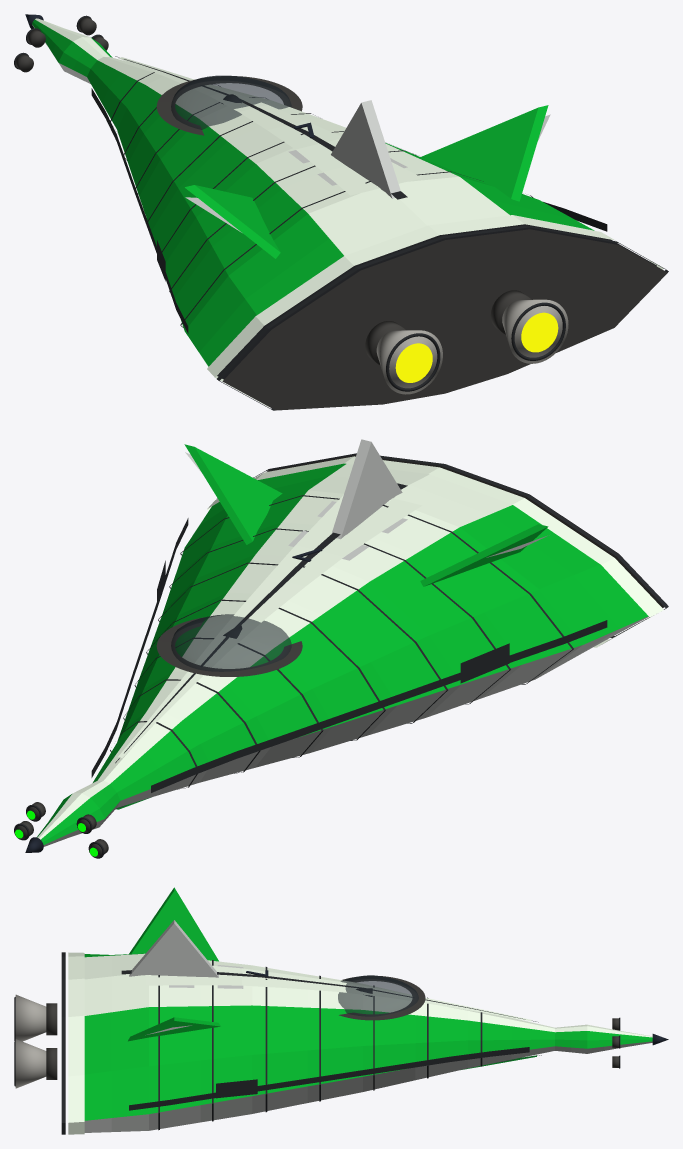
Rendered from Ship_PyramidLifter_390936.glb.
The picture shows the model from 3 angles, top to bottom: view 1: azimuth 30°, elevation 25°; view 2: azimuth 150°, elevation 25°; view 3: azimuth 270°, elevation 25°; orthographic projection. The views are drawn at different scales.
Parts seen in each view (by area): view 1: Fuselage_MainPyramidalLiftingBody, EngineDeck_AftFacetedDarkMountPlate, TailFin_Right_ShortCantedStabilizer, EngineDeck_AftOuterArmorCollar, PaintDorsalSplit_PrimaryCentralArmor, CanopyGlass_LowInsetSmokedDome, TailFin_Left_ShortCantedStabilizer, EngineEmitter, Nose_FacetedRamNeedle, CanopyFrame_LowInsetArmoredOvalRim, EngineBell_LeftWide_BurnishedNozzle, EngineBell_RightWide_BurnishedNozzle (+9 smaller); view 2: Fuselage_MainPyramidalLiftingBody, PaintDorsalSplit_PrimaryCentralArmor, CanopyGlass_LowInsetSmokedDome, EngineDeck_AftOuterArmorCollar, TailFin_Right_ShortCantedStabilizer, SideChinePanel_Left_LongDarkArmorJoint, Nose_FacetedRamNeedle, CanopyFrame_LowInsetArmoredOvalRim, TailFin_Center_TrimInsetPatch_B, TailFin_Center_LowDorsalKeel, TailFin_Left_ShortCantedStabilizer, EngineDeck_AftDarkCompressionSeal (+7 smaller); view 3: Fuselage_MainPyramidalLiftingBody, PaintDorsalSplit_PrimaryCentralArmor, EngineDeck_AftOuterArmorCollar, CanopyGlass_LowInsetSmokedDome, SideChinePanel_Right_LongDarkArmorJoint, TailFin_Left_ShortCantedStabilizer, Nose_FacetedRamNeedle, TailFin_Center_TrimInsetPatch_A, EngineBell_RightWide_BurnishedNozzle, EngineBell_LeftWide_BurnishedNozzle, CanopyFrame_LowInsetArmoredOvalRim, TailFin_Center_LowDorsalKeel (+6 smaller).
Part boxes in pixels (x1,y1,x2,y2): Fuselage_MainPyramidalLiftingBody: (87,57,656,379); EngineDeck_AftFacetedDarkMountPlate: (222,229,667,410); TailFin_Right_ShortCantedStabilizer: (419,105,548,201); EngineDeck_AftOuterArmorCollar: (207,215,663,406); PaintDorsalSplit_PrimaryCentralArmor: (118,57,421,195); CanopyGlass_LowInsetSmokedDome: (171,75,291,129); TailFin_Left_ShortCantedStabilizer: (185,185,280,258); EngineEmitter: (395,312,558,382); Nose_FacetedRamNeedle: (32,18,112,83); CanopyFrame_LowInsetArmoredOvalRim: (156,76,302,135); EngineBell_LeftWide_BurnishedNozzle: (376,330,442,394); EngineBell_RightWide_BurnishedNozzle: (502,299,568,363); Fuselage_MainPyramidalLiftingBody: (93,463,648,807); PaintDorsalSplit_PrimaryCentralArmor: (118,495,421,757); CanopyGlass_LowInsetSmokedDome: (171,614,291,671); EngineDeck_AftOuterArmorCollar: (207,456,663,647); TailFin_Right_ShortCantedStabilizer: (184,444,282,544); SideChinePanel_Left_LongDarkArmorJoint: (151,620,607,792); Nose_FacetedRamNeedle: (37,780,120,846); CanopyFrame_LowInsetArmoredOvalRim: (156,617,302,676); TailFin_Center_TrimInsetPatch_B: (346,450,398,534); TailFin_Center_LowDorsalKeel: (331,439,402,539); TailFin_Left_ShortCantedStabilizer: (420,524,548,586); EngineDeck_AftDarkCompressionSeal: (217,453,668,637); Fuselage_MainPyramidalLiftingBody: (84,953,554,1132); PaintDorsalSplit_PrimaryCentralArmor: (145,965,531,1021); EngineDeck_AftOuterArmorCollar: (68,952,84,1134); CanopyGlass_LowInsetSmokedDome: (338,975,418,1016); SideChinePanel_Right_LongDarkArmorJoint: (129,1047,529,1110); TailFin_Left_ShortCantedStabilizer: (129,887,218,961); Nose_FacetedRamNeedle: (555,1024,652,1053); TailFin_Center_TrimInsetPatch_A: (136,930,211,977); EngineBell_RightWide_BurnishedNozzle: (15,1039,46,1088); EngineBell_LeftWide_BurnishedNozzle: (15,994,46,1041); CanopyFrame_LowInsetArmoredOvalRim: (339,976,425,1020); TailFin_Center_LowDorsalKeel: (129,920,218,977).
Size of the model in its own units: 3.93 by 2.05 by 6.85.
